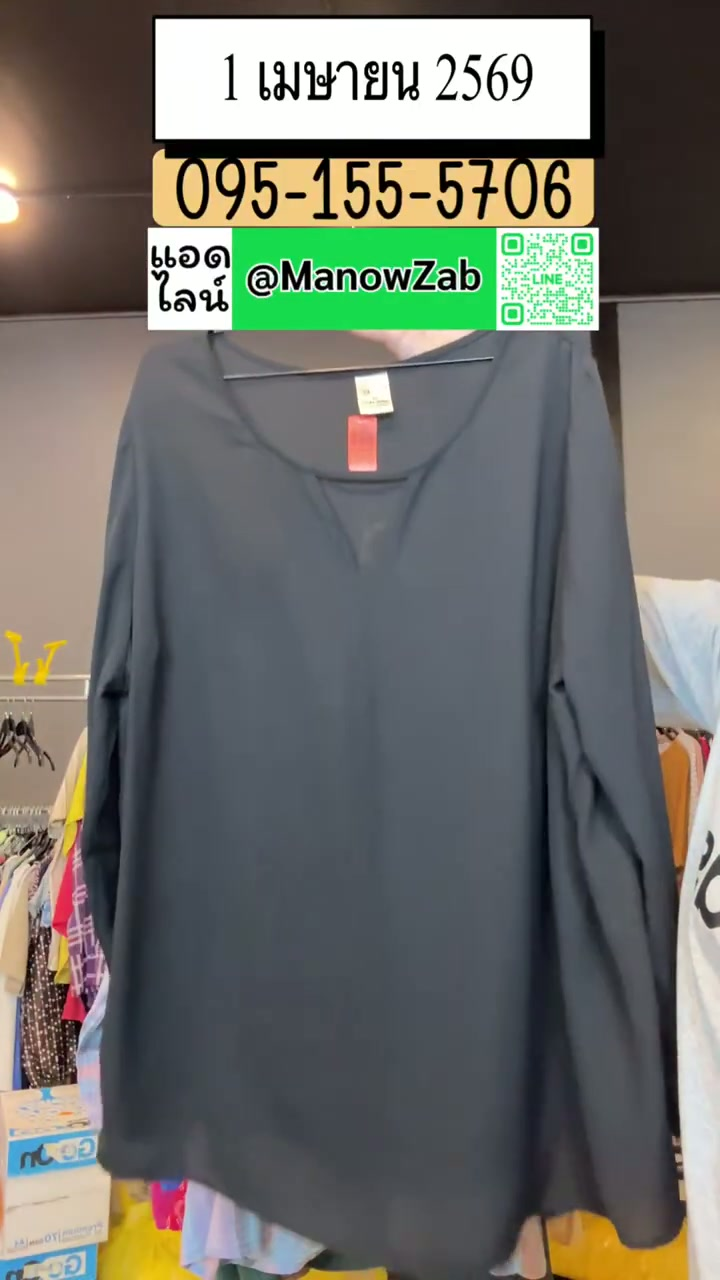display_shirt: (82, 331, 680, 1279), (83, 332, 680, 1279)
